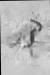E23: (4, 0, 46, 74)
